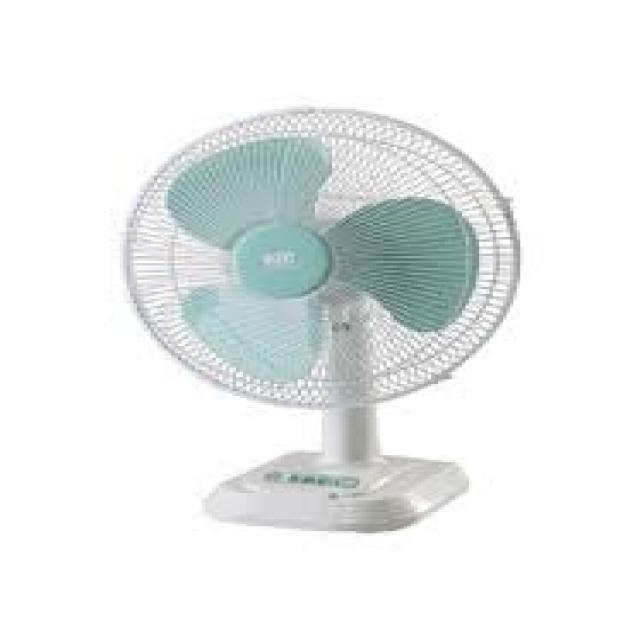fan: (108, 64, 539, 550)
